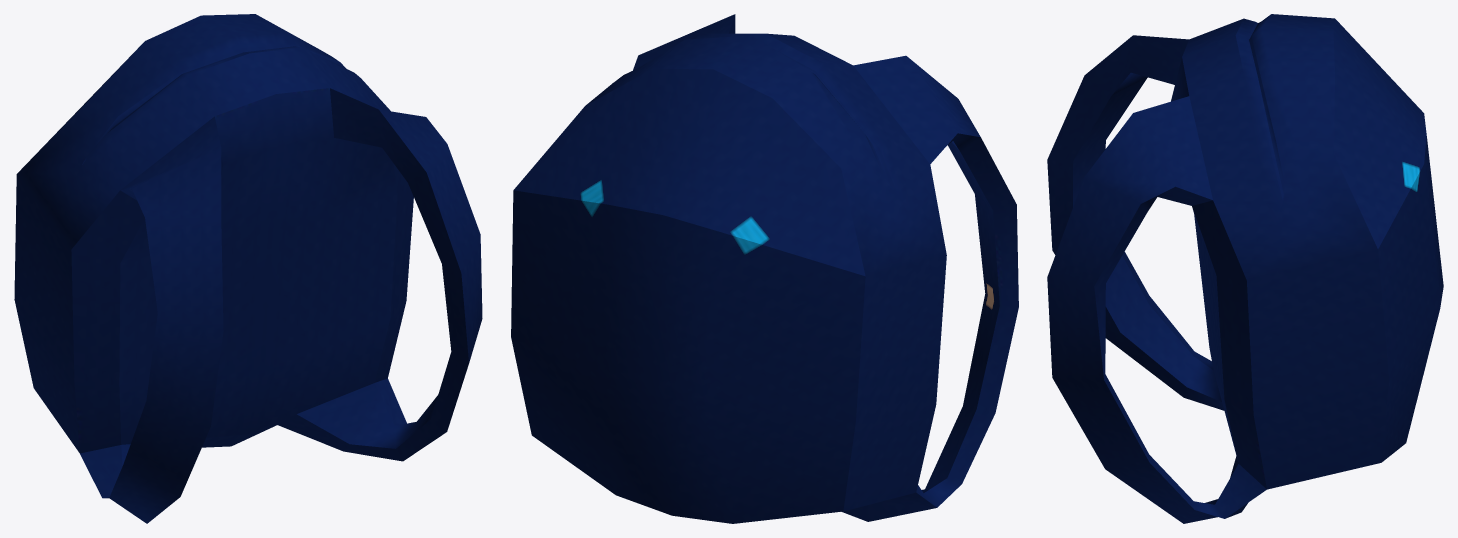
Rendered from bag only.fbx.
The picture shows the model from 3 angles, left to right: view 1: azimuth 30°, elevation 25°; view 2: azimuth 150°, elevation 25°; view 3: azimuth 270°, elevation 25°; orthographic projection. The views are drawn at different scales.
Visible parts, largest first — view 1: Bag_Boy_mat_0; view 2: Bag_Boy_mat_0; view 3: Bag_Boy_mat_0.
Part boxes in pixels (bbox=[...]): Bag_Boy_mat_0: bbox=[14, 14, 482, 523]; Bag_Boy_mat_0: bbox=[511, 14, 1018, 523]; Bag_Boy_mat_0: bbox=[1047, 14, 1443, 523].
Size of the model in its own units: 50.52 by 60.47 by 49.74.
